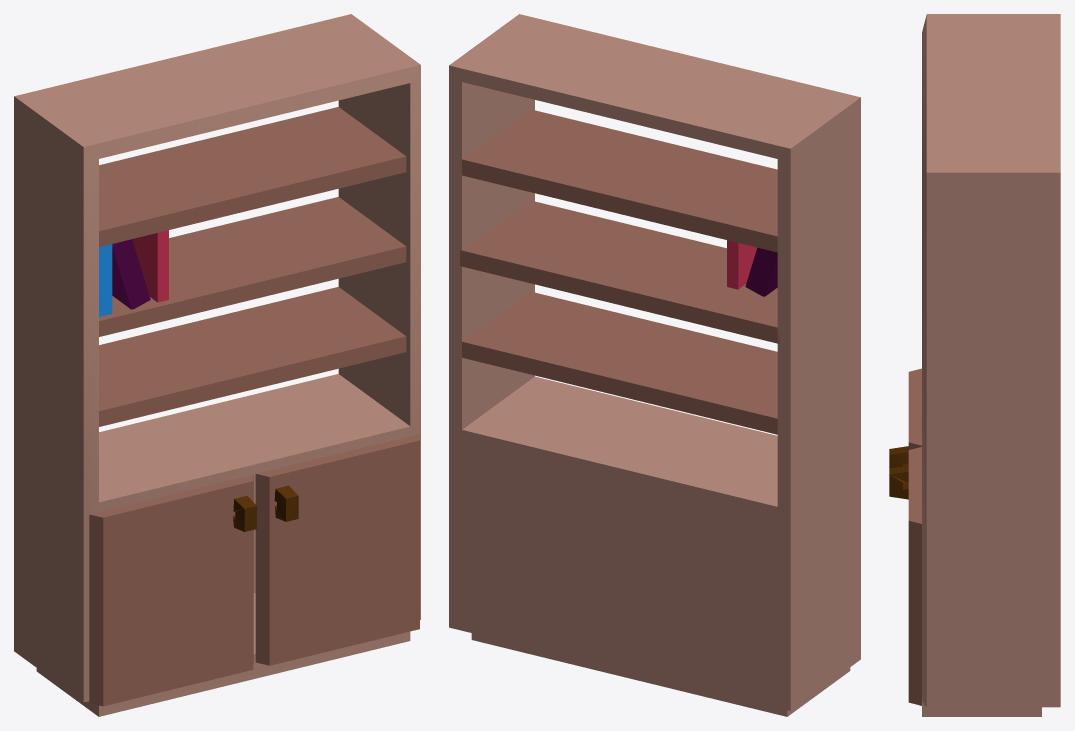
File: cupboard_4.fbx
3 renders of one model, left to right at view 1: azimuth 30°, elevation 25°; view 2: azimuth 150°, elevation 25°; view 3: azimuth 270°, elevation 25°, orthographic. The views are drawn at different scales.
Parts seen in each view (by area): view 1: bookshelf_clear; view 2: bookshelf_clear; view 3: bookshelf_clear.
Boxes of the visible parts, bbox=[...] form: bookshelf_clear: bbox=[14, 14, 420, 716]; bookshelf_clear: bbox=[449, 14, 860, 716]; bookshelf_clear: bbox=[889, 14, 1060, 716].
Bounding box in the file's own units: 64.83 × 105 × 29.55.
